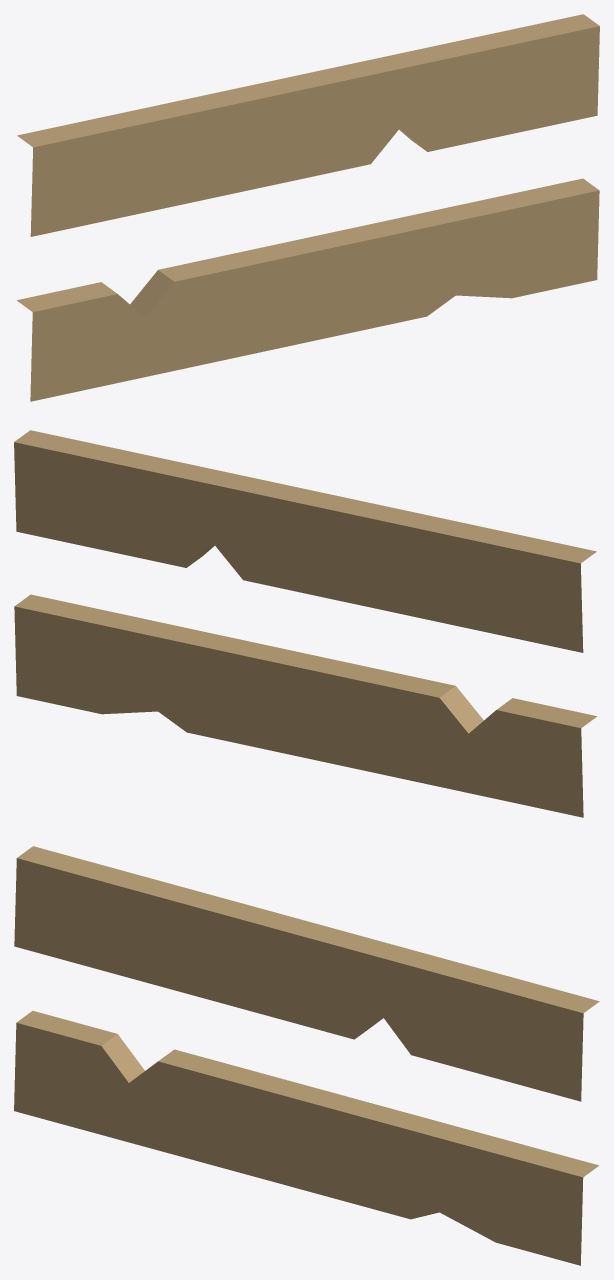
Rendered from Hilly_Prop_Fence_Boards_4.glb.
3 renders of one model, top to bottom at view 1: azimuth 30°, elevation 25°; view 2: azimuth 150°, elevation 25°; view 3: azimuth 330°, elevation 25°, orthographic.
Visible parts, largest first — view 1: Hilly_Prop_Fence_Boards_4; view 2: Hilly_Prop_Fence_Boards_4; view 3: Hilly_Prop_Fence_Boards_4.
Part boxes in pixels (<box>): Hilly_Prop_Fence_Boards_4: <box>17,14,599,401</box>; Hilly_Prop_Fence_Boards_4: <box>14,430,596,817</box>; Hilly_Prop_Fence_Boards_4: <box>14,846,599,1265</box>.
Bounding box in the file's own units: 1 × 0.4552 × 0.05.
